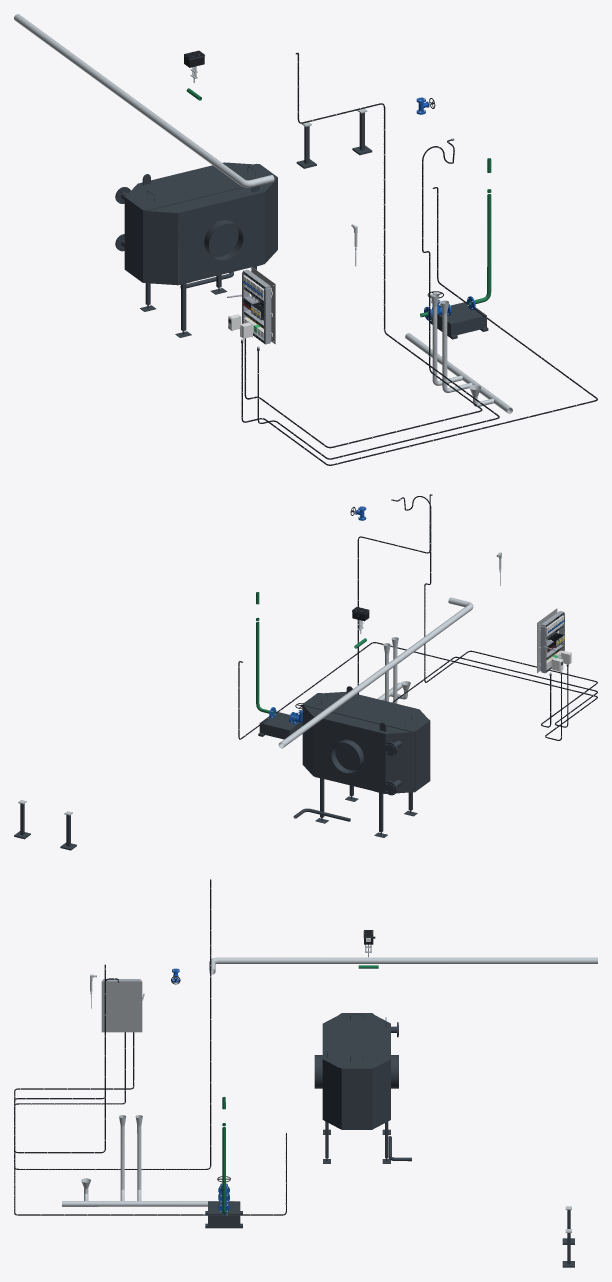
File: s4000-2-Bsj25mo0.glb
3 renders of one model, top to bottom at view 1: azimuth 30°, elevation 25°; view 2: azimuth 150°, elevation 25°; view 3: azimuth 270°, elevation 25°, orthographic. The views are drawn at different scales.
Parts seen in each view (by area): view 1: EQS2-2000 CAD 0, EQS2-2000 CAD 3, EQS2-2000 CAD 1, safety_vent_2 / steel, local_open_drains / steel, cabinet_interior / cabinet_interior_0.npz, gpz_drive_cable / black, wiring_pump_2 / black, wiring_pressure_transmitter / black, pump_branch_1 / dark, pump_branch_1 / green, trap_support / dark; view 2: EQS2-2000 CAD 0, EQS2-2000 CAD 3, EQS2-2000 CAD 2, safety_vent_2 / steel, cabinet_interior / cabinet_interior_0.npz, gpz_drive_cable / black, wiring_pump_2 / black, wiring_pressure_transmitter / black, local_open_drains / steel, pump_branch_1 / dark; view 3: EQS2-2000 CAD 3, safety_vent_2 / steel, cabinet_interior / cabinet_interior_0.npz, local_open_drains / steel, wiring_pump_2 / black, EQS2-2000 CAD 0, wiring_pressure_transmitter / black, gpz_drive_cable / black, pump_branch_1 / dark.
Part boxes in pixels (bbox=[...]): EQS2-2000 CAD 0: bbox=[140, 192, 264, 337]; EQS2-2000 CAD 3: bbox=[124, 162, 277, 282]; EQS2-2000 CAD 1: bbox=[143, 211, 177, 285]; safety_vent_2 / steel: bbox=[14, 14, 274, 187]; local_open_drains / steel: bbox=[405, 293, 512, 413]; cabinet_interior / cabinet_interior_0.npz: bbox=[227, 266, 275, 344]; gpz_drive_cable / black: bbox=[257, 52, 499, 459]; wiring_pump_2 / black: bbox=[241, 187, 597, 465]; wiring_pressure_transmitter / black: bbox=[244, 139, 482, 448]; pump_branch_1 / dark: bbox=[430, 301, 488, 339]; pump_branch_1 / green: bbox=[420, 158, 491, 317]; trap_support / dark: bbox=[296, 112, 372, 168]; EQS2-2000 CAD 0: bbox=[313, 716, 417, 837]; EQS2-2000 CAD 3: bbox=[302, 686, 430, 791]; EQS2-2000 CAD 2: bbox=[384, 732, 414, 795]; safety_vent_2 / steel: bbox=[278, 597, 473, 748]; cabinet_interior / cabinet_interior_0.npz: bbox=[537, 608, 564, 673]; gpz_drive_cable / black: bbox=[357, 494, 597, 727]; wiring_pump_2 / black: bbox=[238, 642, 597, 740]; wiring_pressure_transmitter / black: bbox=[393, 496, 597, 727]; local_open_drains / steel: bbox=[377, 637, 410, 703]; pump_branch_1 / dark: bbox=[258, 711, 302, 739]; EQS2-2000 CAD 3: bbox=[322, 1013, 390, 1129]; safety_vent_2 / steel: bbox=[209, 957, 597, 974]; cabinet_interior / cabinet_interior_0.npz: bbox=[101, 979, 144, 1032]; local_open_drains / steel: bbox=[62, 1115, 233, 1206]; wiring_pump_2 / black: bbox=[14, 1032, 286, 1215]; EQS2-2000 CAD 0: bbox=[314, 1024, 398, 1163]; wiring_pressure_transmitter / black: bbox=[14, 964, 134, 1153]; gpz_drive_cable / black: bbox=[14, 879, 211, 1169]; pump_branch_1 / dark: bbox=[205, 1201, 242, 1228].
Bounding box in the file's own units: 4.65 × 3.66 × 7.03.
